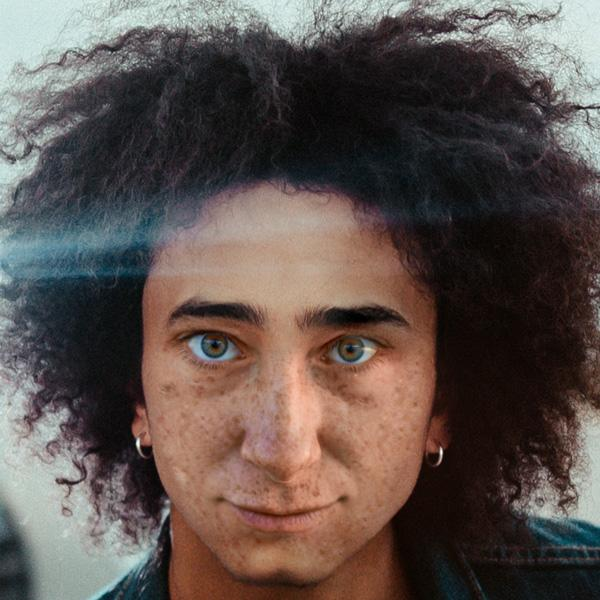Eyes: (166, 319, 264, 377), (309, 326, 394, 377)
